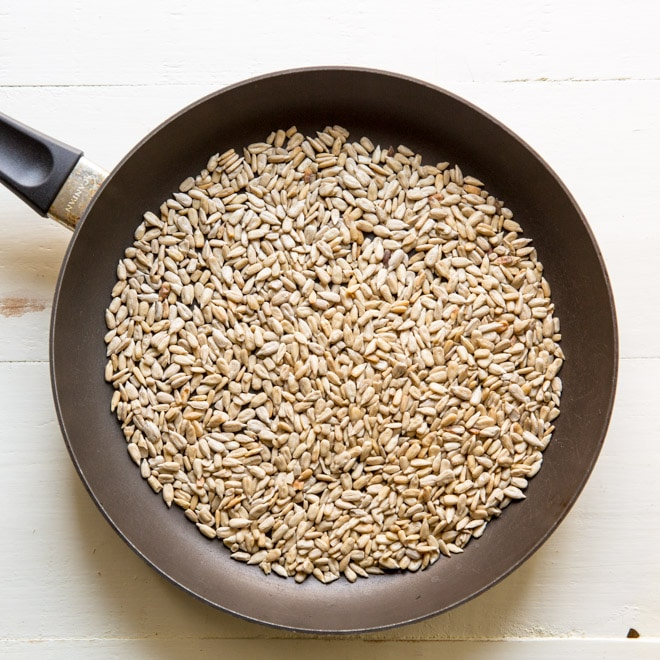seed: (97, 113, 571, 588)
